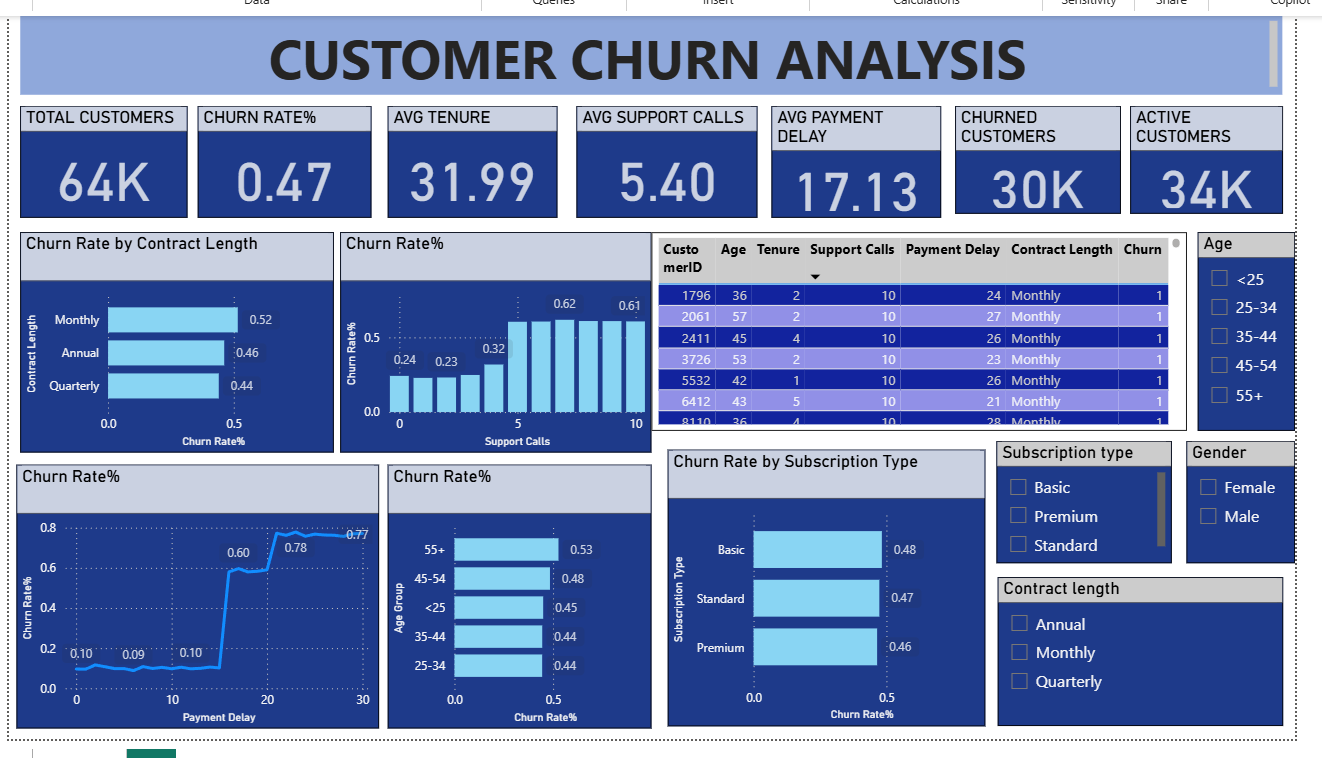

The page's visual inventory and layout, read from the dashboard file:
{"tool":"powerbi","page":{"name":"Page 1","canvas":[1280,720],"ordinal":0},"visuals":[{"type":"card","title":"TOTAL CUSTOMERS","fields":{"Values":["customer_churn_dataset-testing-master.Total Customers"]},"box":[11,89.2,166,111.1],"z":0},{"type":"card","title":"CHURNED CUSTOMERS","fields":{"Values":["customer_churn_dataset-testing-master.Churned Customers"]},"box":[941.3,89.2,164.7,107],"z":1},{"type":"card","title":"ACTIVE CUSTOMERS","fields":{"Values":["customer_churn_dataset-testing-master.Active Customers"]},"box":[1115.6,89.2,152.3,107],"z":2},{"type":"card","title":"CHURN RATE%","fields":{"Values":["customer_churn_dataset-testing-master.Churn Rate%"]},"box":[188,89.2,172.9,111.1],"z":3},{"type":"card","title":"AVG TENURE","fields":{"Values":["customer_churn_dataset-testing-master.Avg Tenure"]},"box":[377.4,89.2,168.8,111.1],"z":4},{"type":"card","title":"AVG SUPPORT CALLS","fields":{"Values":["customer_churn_dataset-testing-master.Avg Support Calls"]},"box":[565.4,89.2,179.8,111.1],"z":5},{"type":"card","title":"AVG PAYMENT DELAY","fields":{"Values":["customer_churn_dataset-testing-master.Avg Payment delay"]},"box":[758.8,89.2,168.8,111.1],"z":6},{"type":"clusteredBarChart","title":" Churn Rate by Contract Length","fields":{"Category":["customer_churn_dataset-testing-master.Contract Length"],"Y":["customer_churn_dataset-testing-master.Churn Rate%"]},"box":[11,215.4,349.9,230.5],"z":7},{"type":"clusteredBarChart","title":" Churn Rate by Subscription Type","fields":{"Category":["customer_churn_dataset-testing-master.Subscription Type"],"Y":["customer_churn_dataset-testing-master.Churn Rate%"]},"box":[655.9,419.9,315.6,275.8],"z":8},{"type":"lineChart","fields":{"Y":["customer_churn_dataset-testing-master.Churn Rate%"],"Category":["customer_churn_dataset-testing-master.Payment Delay"]},"box":[0,474.8,360.9,220.9],"z":9},{"type":"clusteredColumnChart","fields":{"Y":["customer_churn_dataset-testing-master.Churn Rate%"],"Category":["customer_churn_dataset-testing-master.Support Calls"]},"box":[345.8,215.4,310.1,204.5],"z":10},{"type":"barChart","fields":{"Y":["customer_churn_dataset-testing-master.Churn Rate%"],"Category":["customer_churn_dataset-testing-master.Age Group"]},"box":[377.4,446,312.9,249.7],"z":11},{"type":"tableEx","fields":{"Values":["customer_churn_dataset-testing-master.CustomerID","customer_churn_dataset-testing-master.Age","customer_churn_dataset-testing-master.Tenure","customer_churn_dataset-testing-master.Support Calls","customer_churn_dataset-testing-master.Payment Delay","customer_churn_dataset-testing-master.Contract Length","customer_churn_dataset-testing-master.Churn"]},"box":[664.3,215.2,507.5,184.1],"z":12},{"type":"slicer","fields":{"Values":["customer_churn_dataset-testing-master.Gender"]},"box":[1138.2,420.5,108.2,104.5],"z":13},{"type":"slicer","fields":{"Values":["customer_churn_dataset-testing-master.Subscription Type"]},"box":[941.7,413,174.2,121.9],"z":14},{"type":"slicer","fields":{"Values":["customer_churn_dataset-testing-master.Contract Length"]},"box":[950.4,544.9,296.1,161.7],"z":15},{"type":"slicer","fields":{"Values":["customer_churn_dataset-testing-master.Age Group"]},"box":[1171.8,215.2,108.2,184.1],"z":16}]}

Visuals, with their boxes in screenshot pixels (x1, y1, x2, y2):
"TOTAL CUSTOMERS" card: rect(11, 101, 180, 214)
"CHURNED CUSTOMERS" card: rect(959, 101, 1126, 210)
"ACTIVE CUSTOMERS" card: rect(1136, 101, 1291, 210)
"CHURN RATE%" card: rect(191, 101, 368, 214)
"AVG TENURE" card: rect(384, 101, 556, 214)
"AVG SUPPORT CALLS" card: rect(576, 101, 759, 214)
"AVG PAYMENT DELAY" card: rect(773, 101, 945, 214)
" Churn Rate by Contract Length" clusteredBarChart: rect(11, 230, 368, 464)
" Churn Rate by Subscription Type" clusteredBarChart: rect(668, 438, 990, 719)
lineChart - customer_churn_dataset-testing-master.Churn Rate% x customer_churn_dataset-testing-master.Payment Delay: rect(0, 494, 368, 719)
clusteredColumnChart - customer_churn_dataset-testing-master.Churn Rate% x customer_churn_dataset-testing-master.Support Calls: rect(352, 230, 668, 438)
barChart - customer_churn_dataset-testing-master.Churn Rate% x customer_churn_dataset-testing-master.Age Group: rect(384, 465, 703, 719)
tableEx - customer_churn_dataset-testing-master.CustomerID x customer_churn_dataset-testing-master.Age: rect(677, 230, 1194, 417)
slicer - customer_churn_dataset-testing-master.Gender: rect(1159, 439, 1269, 545)
slicer - customer_churn_dataset-testing-master.Subscription Type: rect(959, 431, 1137, 555)
slicer - customer_churn_dataset-testing-master.Contract Length: rect(968, 565, 1270, 730)
slicer - customer_churn_dataset-testing-master.Age Group: rect(1194, 230, 1304, 417)
